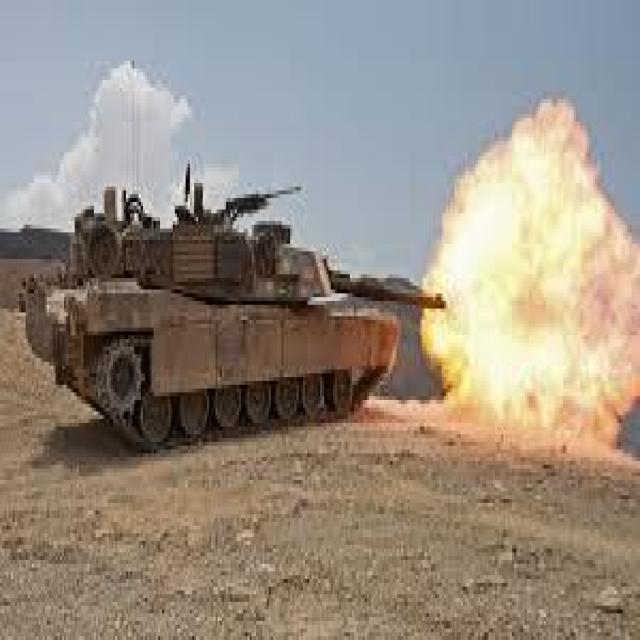Tanks: (16, 162, 453, 432)
